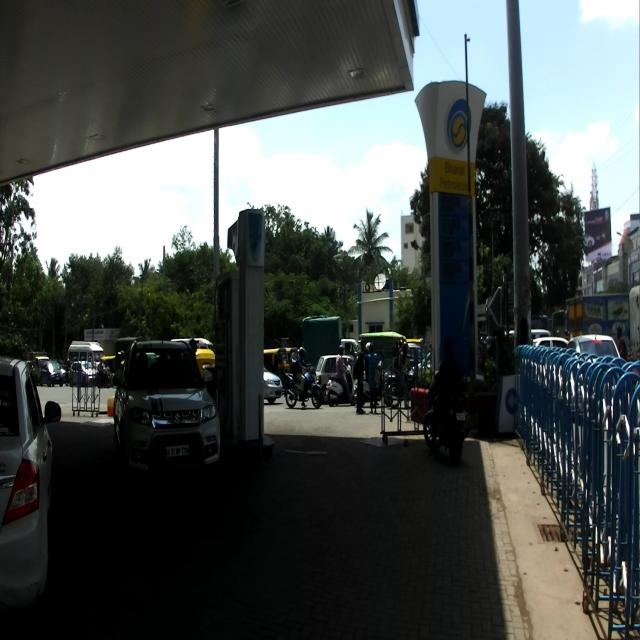Car_Maruti-Suzuki: (113, 338, 221, 498)
